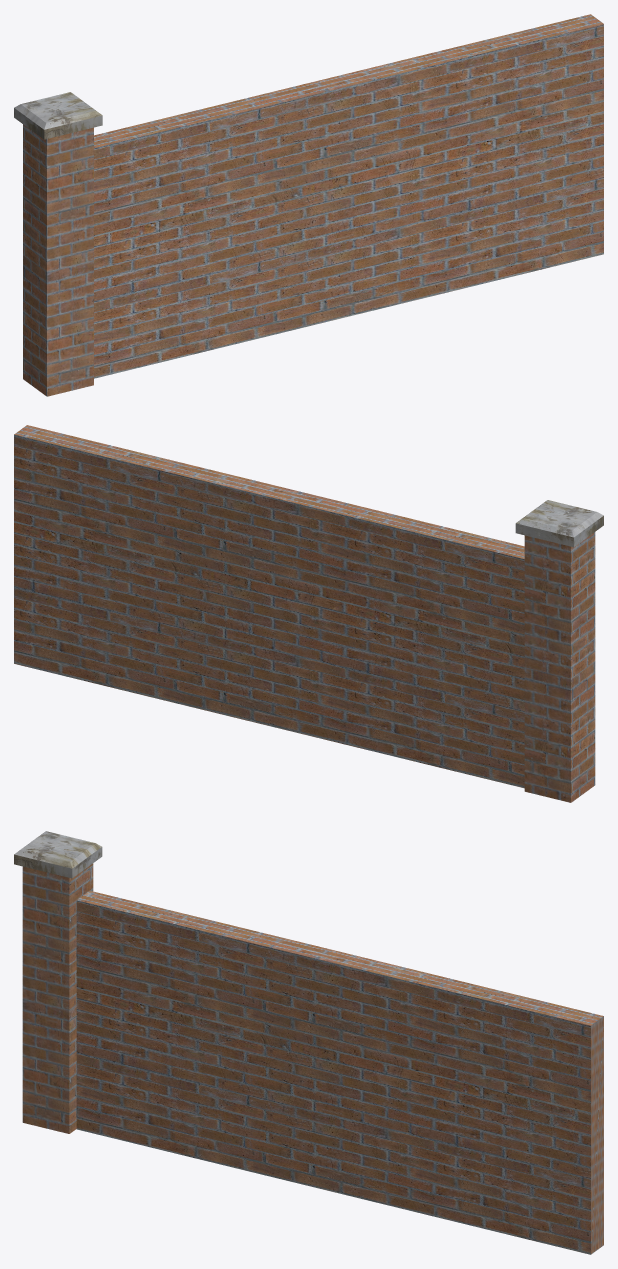
The model's file is brick_wall.fbx.
3 views of the same model, one above another, from view 1: azimuth 30°, elevation 25°; view 2: azimuth 150°, elevation 25°; view 3: azimuth 330°, elevation 25° (orthographic).
Parts seen in each view (by area): view 1: pCube2, pCube1; view 2: pCube2, pCube1; view 3: pCube2, pCube1.
Part boxes in pixels (x1,y1,x2,y2): pCube2: [94, 14, 603, 378]; pCube1: [14, 92, 102, 396]; pCube2: [14, 425, 524, 788]; pCube1: [515, 500, 603, 802]; pCube2: [76, 890, 603, 1254]; pCube1: [14, 831, 102, 1133].
Bounding box in the file's own units: 12.72 × 5.87 × 1.17.
